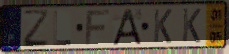A: (110, 7, 143, 47)
F: (84, 8, 111, 47)
K: (152, 7, 174, 45), (181, 7, 203, 44)
L: (52, 10, 73, 47)
Z: (21, 8, 50, 49)
